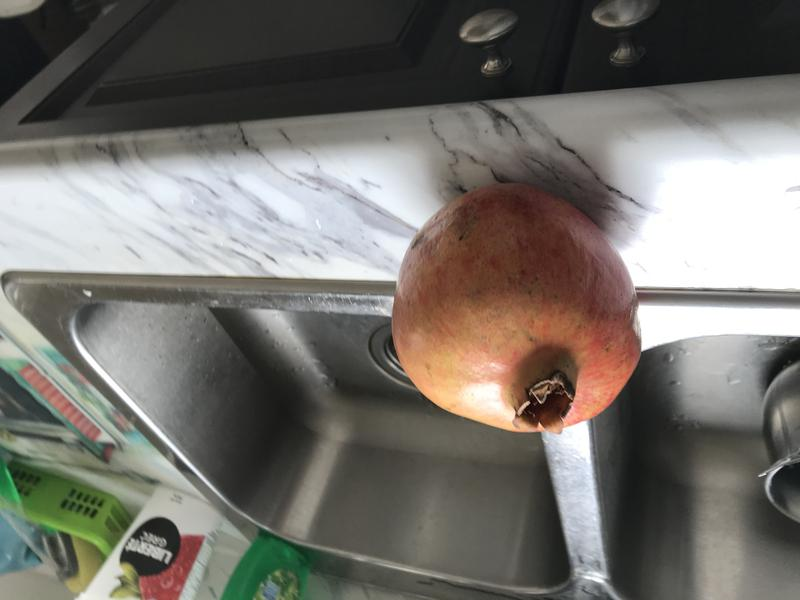pomegranate: (376, 177, 649, 437)
